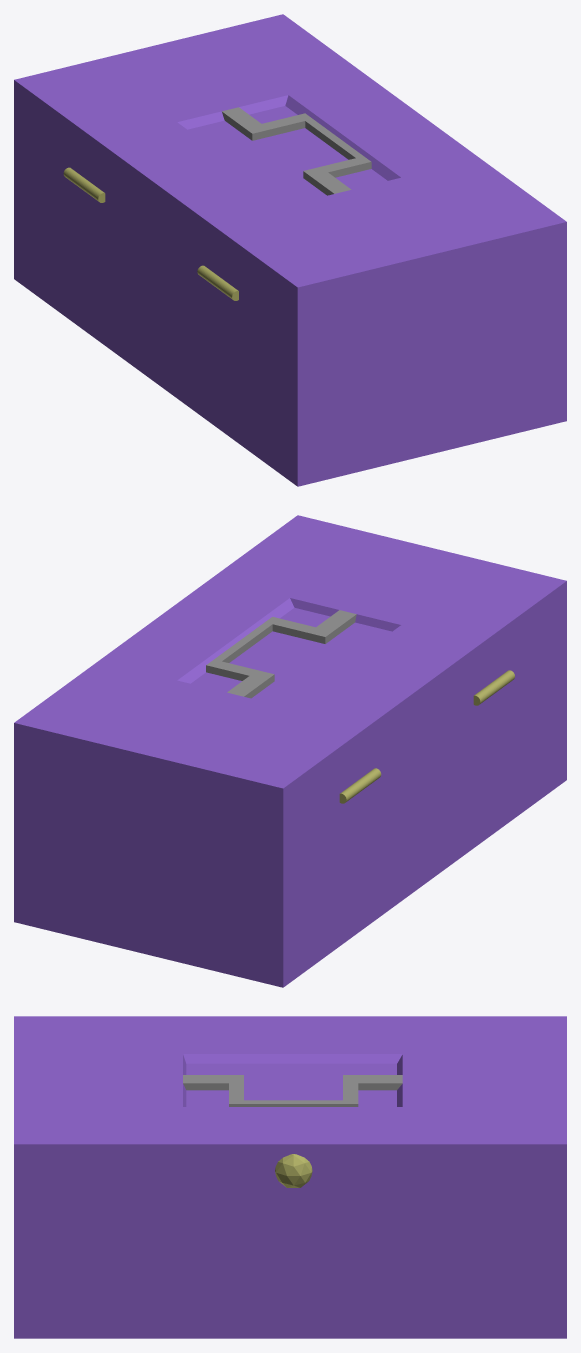
Rendered from cajaLlave.fbx.
The picture shows the model from 3 angles, top to bottom: view 1: azimuth 30°, elevation 25°; view 2: azimuth 150°, elevation 25°; view 3: azimuth 270°, elevation 25°; orthographic projection. The views are drawn at different scales.
Visible parts, largest first — view 1: Cubo, Fijo; view 2: Cubo, Fijo; view 3: Cubo, Fijo.
Boxes of the visible parts, left/top/right/bottom form: Cubo: left=14, top=14, right=566, bottom=342; Fijo: left=14, top=135, right=566, bottom=486; Cubo: left=14, top=515, right=566, bottom=843; Fijo: left=14, top=636, right=566, bottom=987; Cubo: left=14, top=1016, right=566, bottom=1198; Fijo: left=14, top=1198, right=566, bottom=1338.
Size of the model in its own units: 139 by 92.56 by 239.
